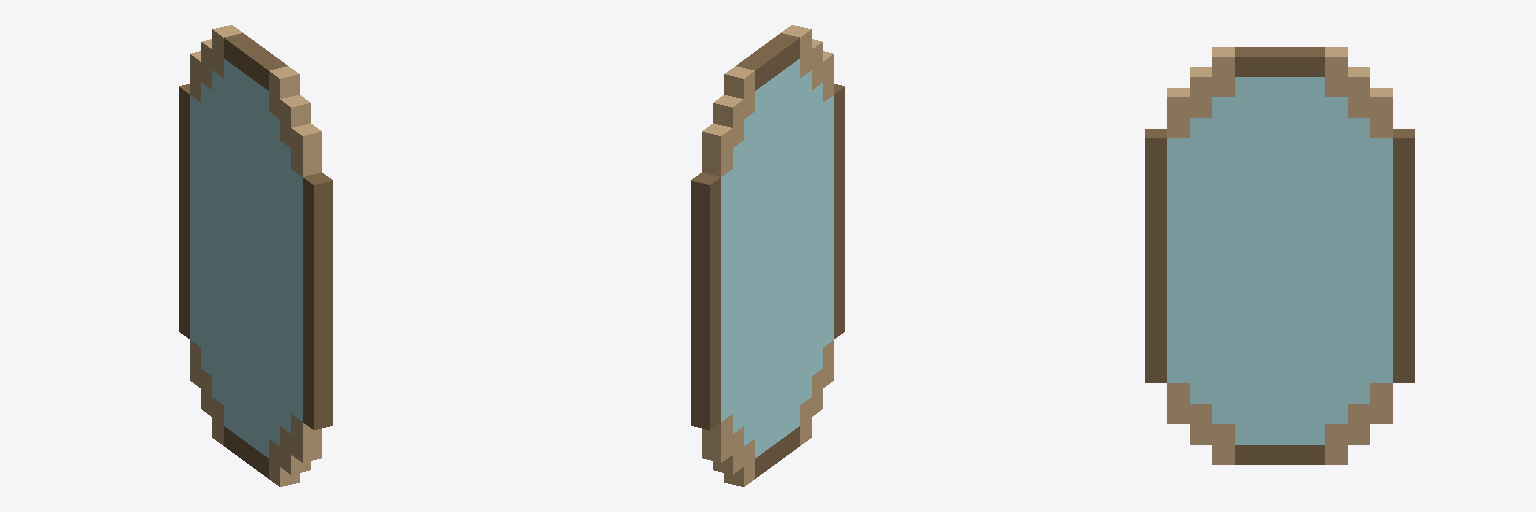
3 views of the same model, side by side, from view 1: azimuth 30°, elevation 25°; view 2: azimuth 150°, elevation 25°; view 3: azimuth 270°, elevation 25° (orthographic).
Visible parts, largest first — view 1: wall_mirror; view 2: wall_mirror; view 3: wall_mirror.
Part boxes in pixels (x1,y1,x2,y2): wall_mirror: (179,25,332,486); wall_mirror: (691,25,844,486); wall_mirror: (1145,47,1414,464).
Bounding box in the file's own units: 1 × 20 × 12.
1 materials, 1 textured.